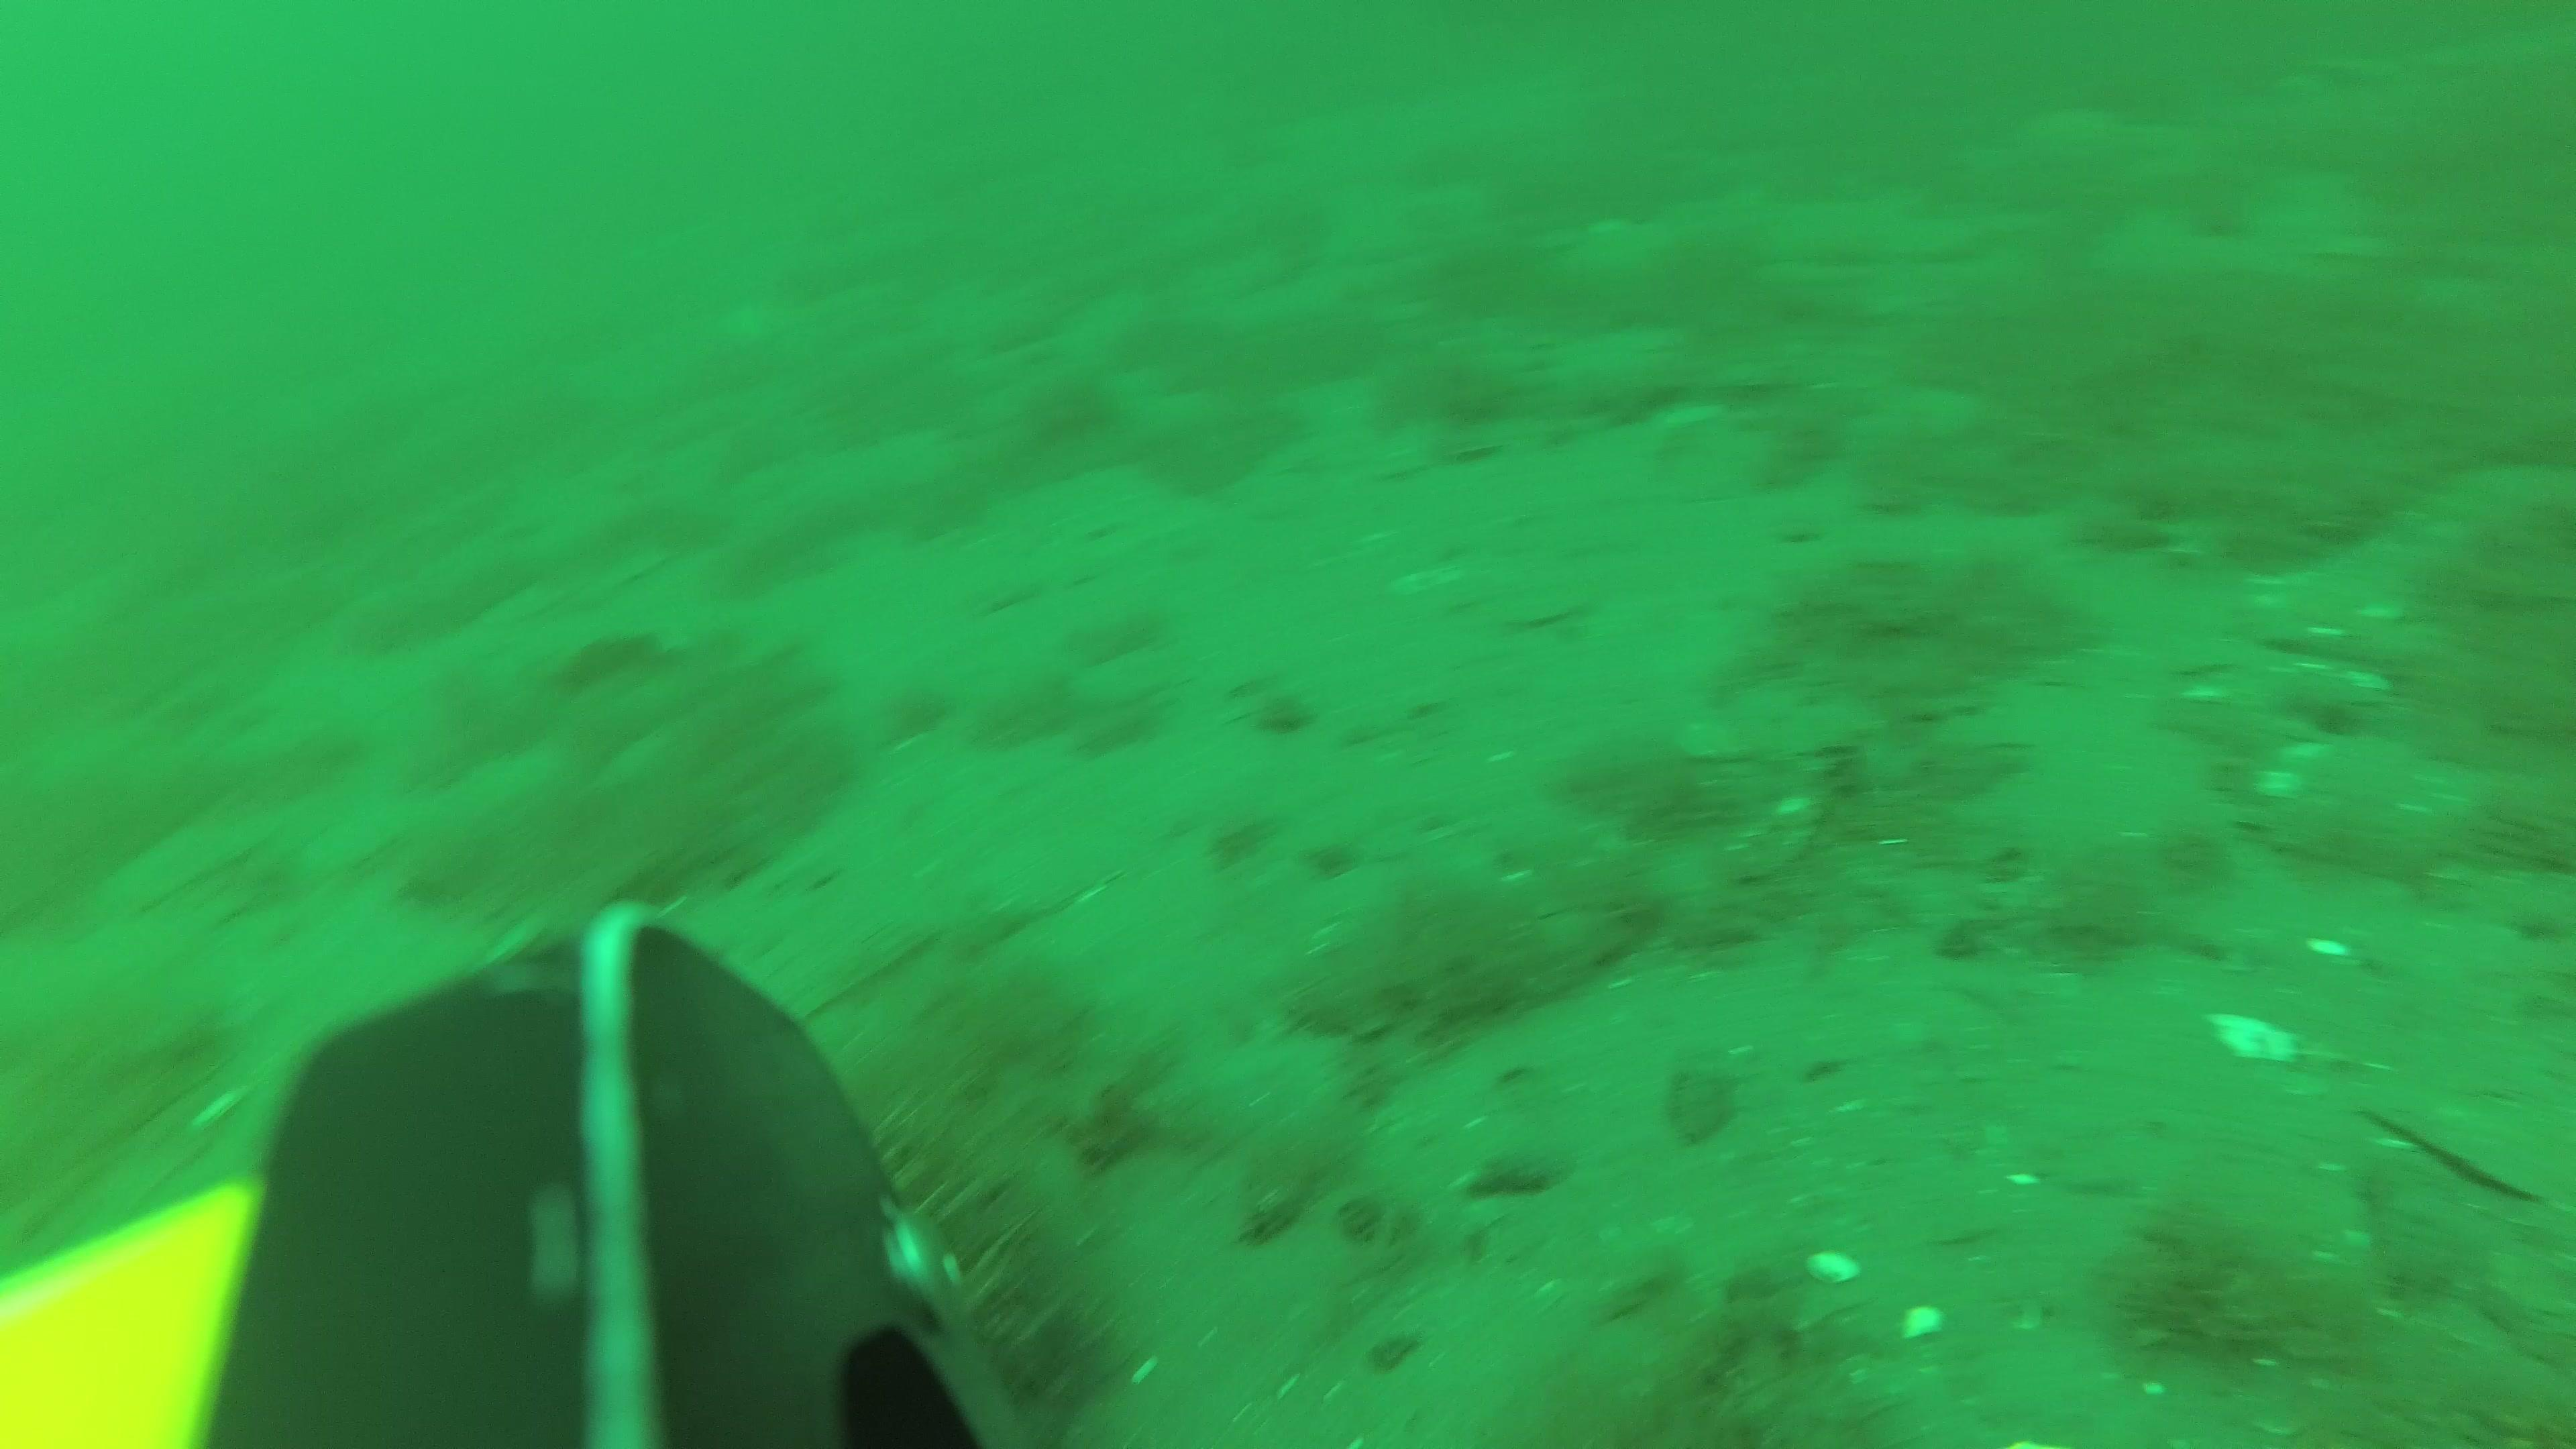scallop: (1513, 580, 1591, 626)
starfish: (2019, 101, 2116, 157)
